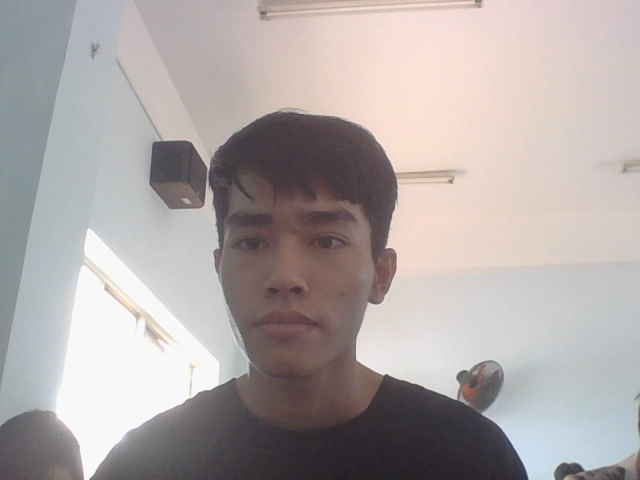real: (199, 103, 405, 395)
